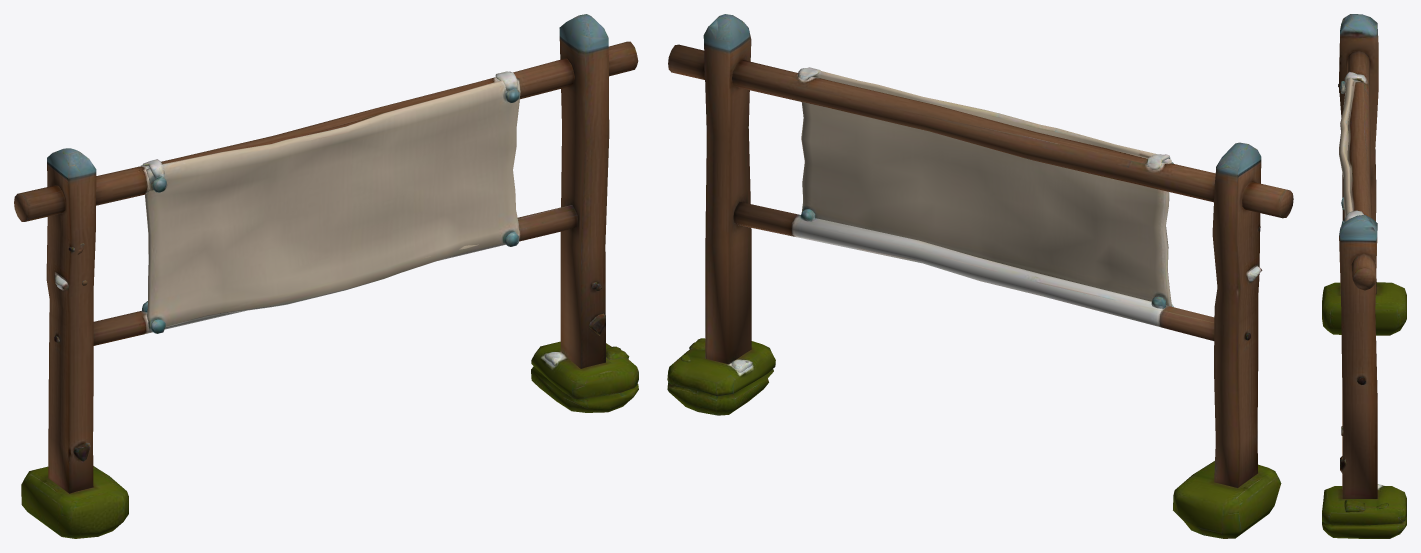
Rendered from prop_banner.glb.
The picture shows the model from 3 angles, left to right: view 1: azimuth 30°, elevation 25°; view 2: azimuth 150°, elevation 25°; view 3: azimuth 270°, elevation 25°; orthographic projection. The views are drawn at different scales.
Visible parts, largest first — view 1: tripo_node_c5191c7a-725b-48ca-9b77-4d0ac44a5dd6; view 2: tripo_node_c5191c7a-725b-48ca-9b77-4d0ac44a5dd6; view 3: tripo_node_c5191c7a-725b-48ca-9b77-4d0ac44a5dd6.
Boxes of the visible parts, x1=… form: tripo_node_c5191c7a-725b-48ca-9b77-4d0ac44a5dd6: x1=14, y1=14, x2=638, y2=538; tripo_node_c5191c7a-725b-48ca-9b77-4d0ac44a5dd6: x1=667, y1=14, x2=1293, y2=538; tripo_node_c5191c7a-725b-48ca-9b77-4d0ac44a5dd6: x1=1322, y1=14, x2=1406, y2=538.
Size of the model in its own units: 0.998 by 0.5918 by 0.1465.
1 material, 1 textured.
